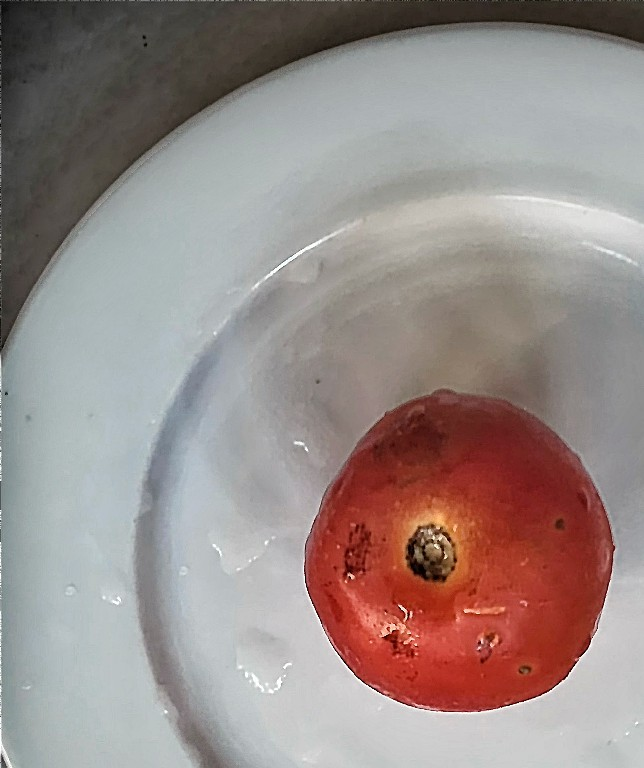NG: (302, 384, 616, 714)
